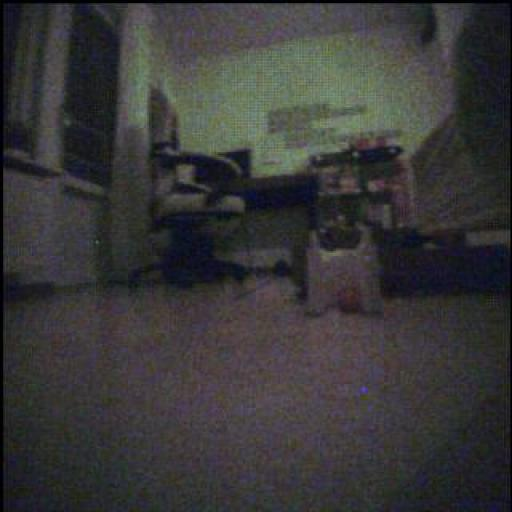basket: (339, 285, 363, 316)
